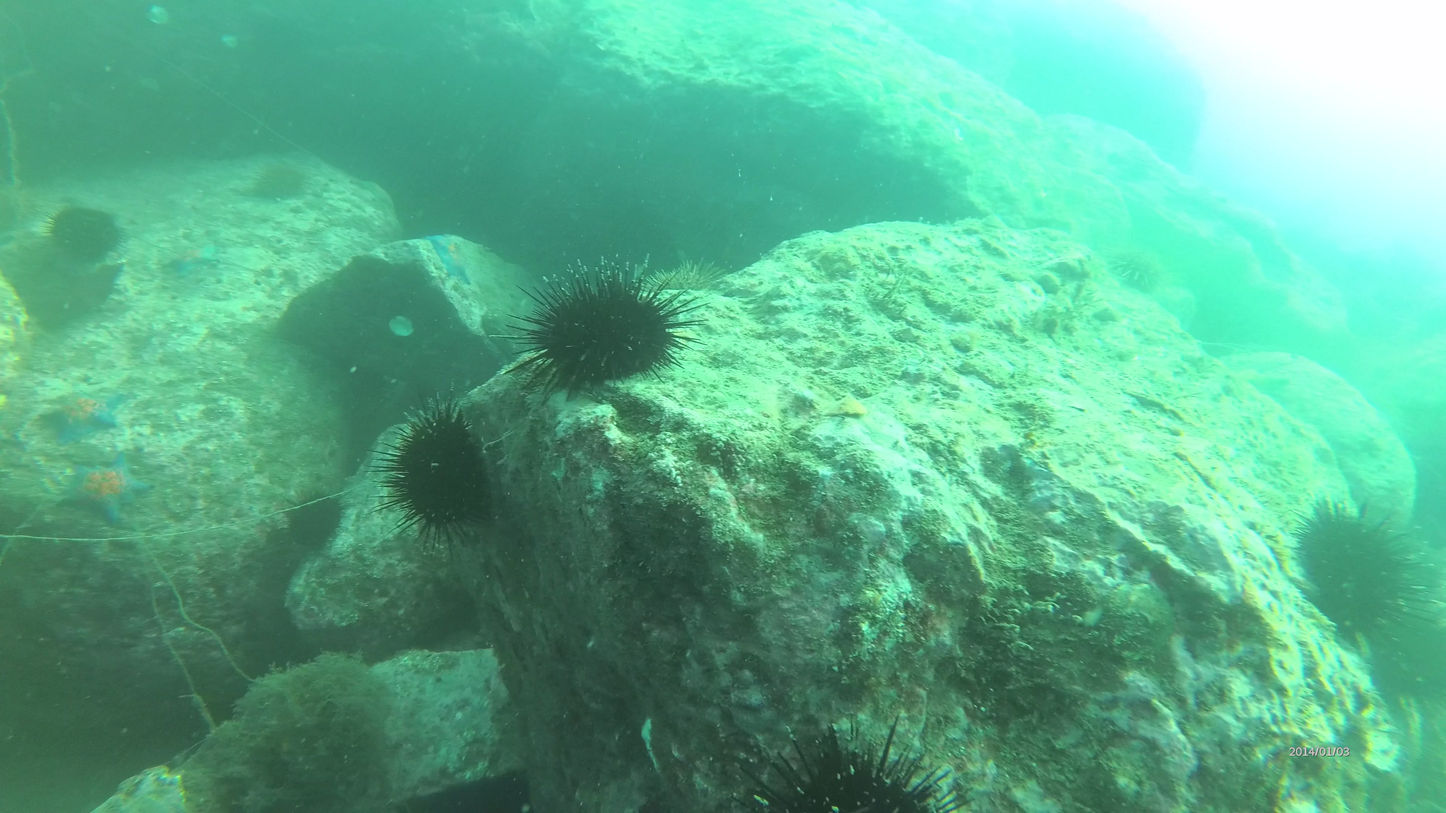holothurian: (58, 456, 149, 524), (45, 390, 125, 450), (161, 239, 223, 284), (430, 231, 476, 287)
starfish: (516, 257, 690, 395), (745, 726, 951, 813), (384, 407, 499, 537), (1298, 503, 1417, 625), (46, 204, 124, 267), (286, 487, 343, 551), (252, 164, 309, 204)
